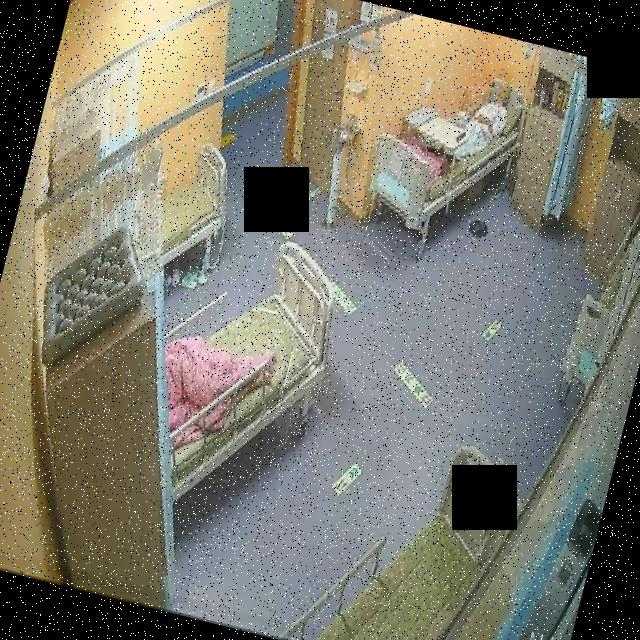bed: (135, 222, 354, 526), (278, 415, 533, 640), (358, 54, 538, 252), (147, 136, 240, 278)
lie: (454, 72, 516, 164)
patient: (456, 76, 516, 166)
